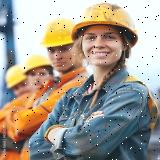Helmet: (70, 1, 140, 45), (38, 18, 88, 47), (21, 53, 58, 74), (4, 64, 33, 89)
